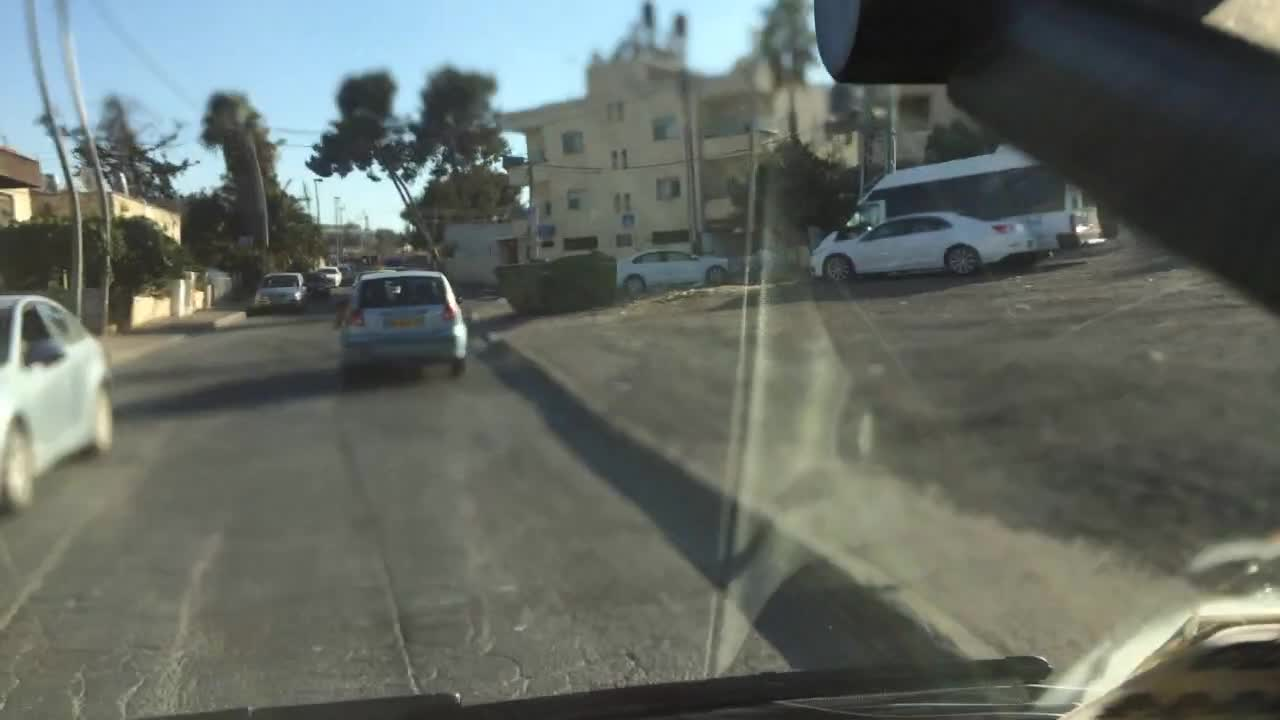car: (803, 152, 1114, 255), (0, 290, 116, 509), (809, 209, 1040, 285), (336, 266, 470, 390), (611, 244, 734, 294), (253, 271, 307, 313), (304, 269, 330, 297), (319, 265, 344, 288), (341, 264, 357, 284)
